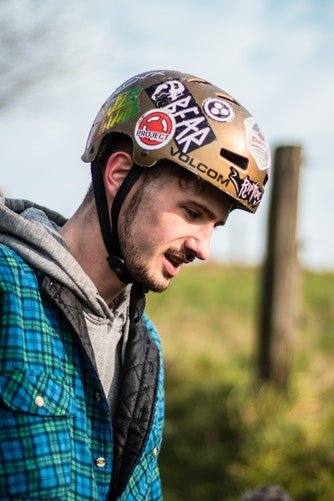helmet: (88, 62, 279, 216)
